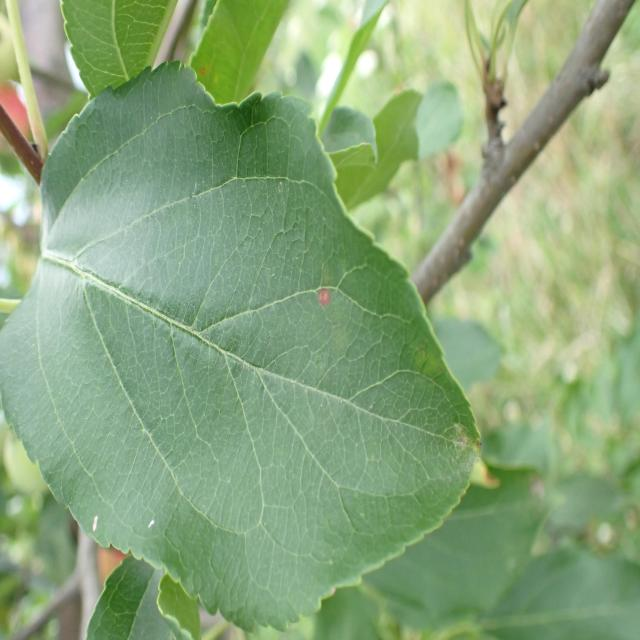Black Rot: (302, 277, 336, 337)
